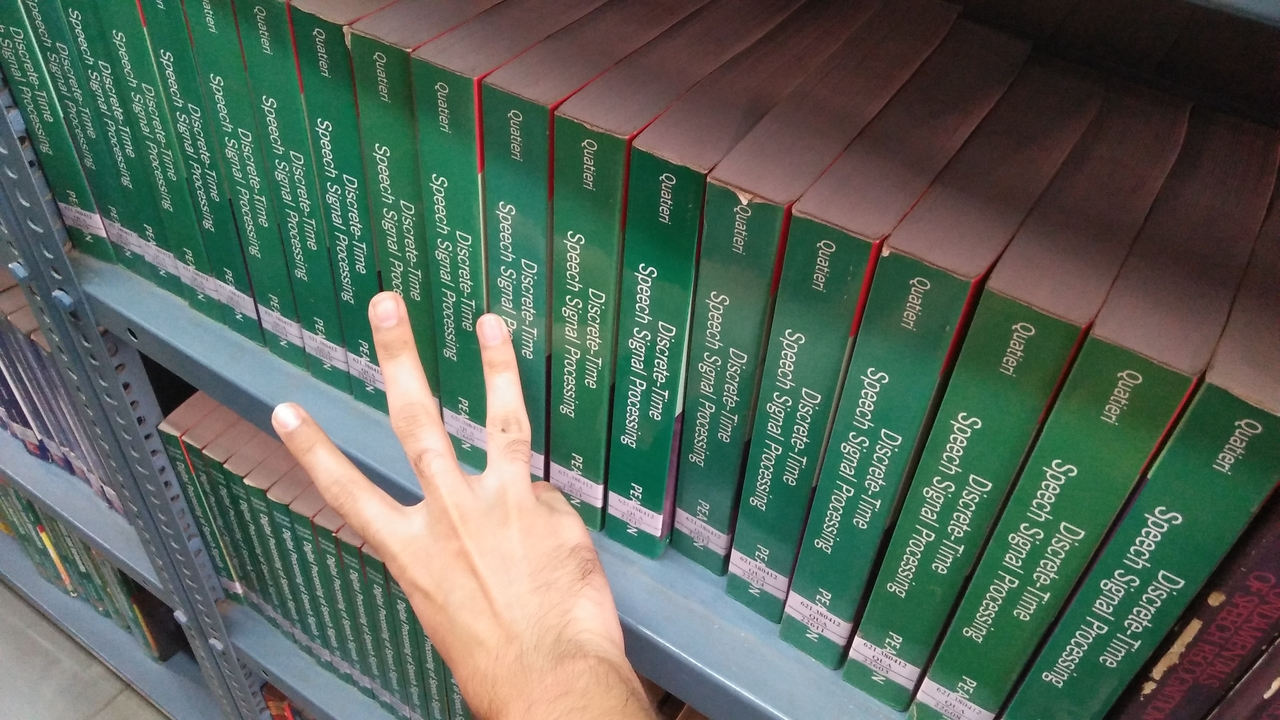fingertip: (256, 392, 322, 454), (360, 286, 414, 342), (464, 306, 520, 358)
